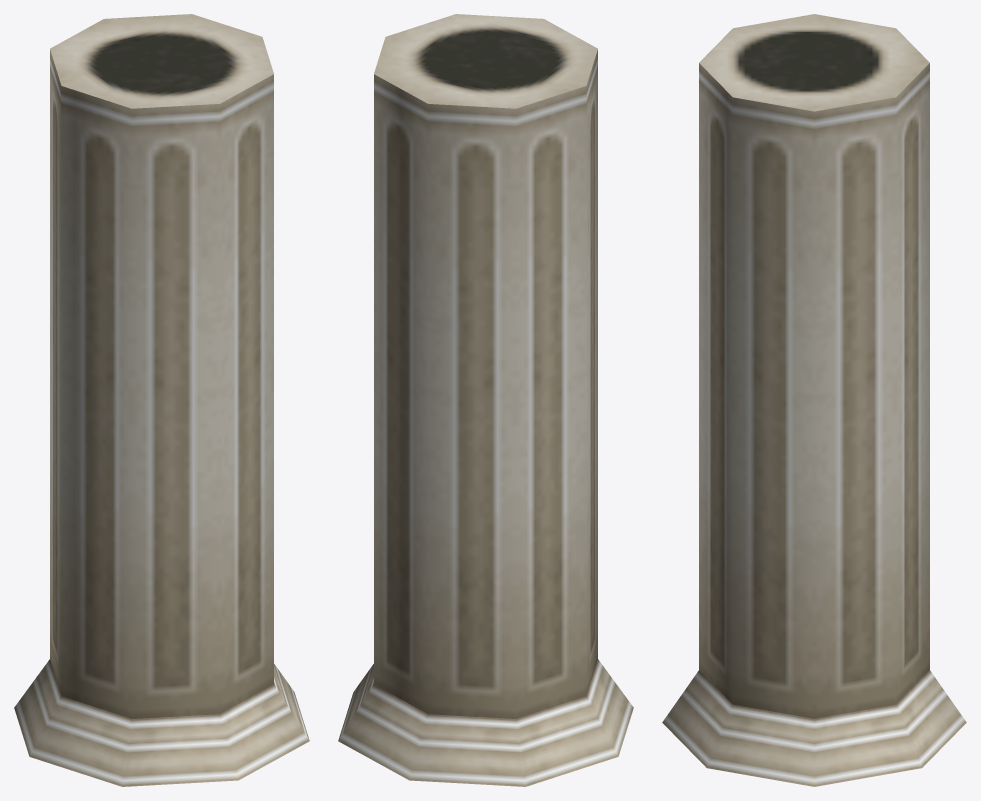
The picture shows the model from 3 angles, left to right: view 1: azimuth 30°, elevation 25°; view 2: azimuth 150°, elevation 25°; view 3: azimuth 270°, elevation 25°; orthographic projection.
Parts seen in each view (by area): view 1: a108; view 2: a108; view 3: a108.
Boxes of the visible parts, x1,y1,x2,y2 form: a108: (14,14,309,786); a108: (338,14,633,786); a108: (662,14,966,786).
Size of the model in its own units: 65.62 by 157 by 65.62.
